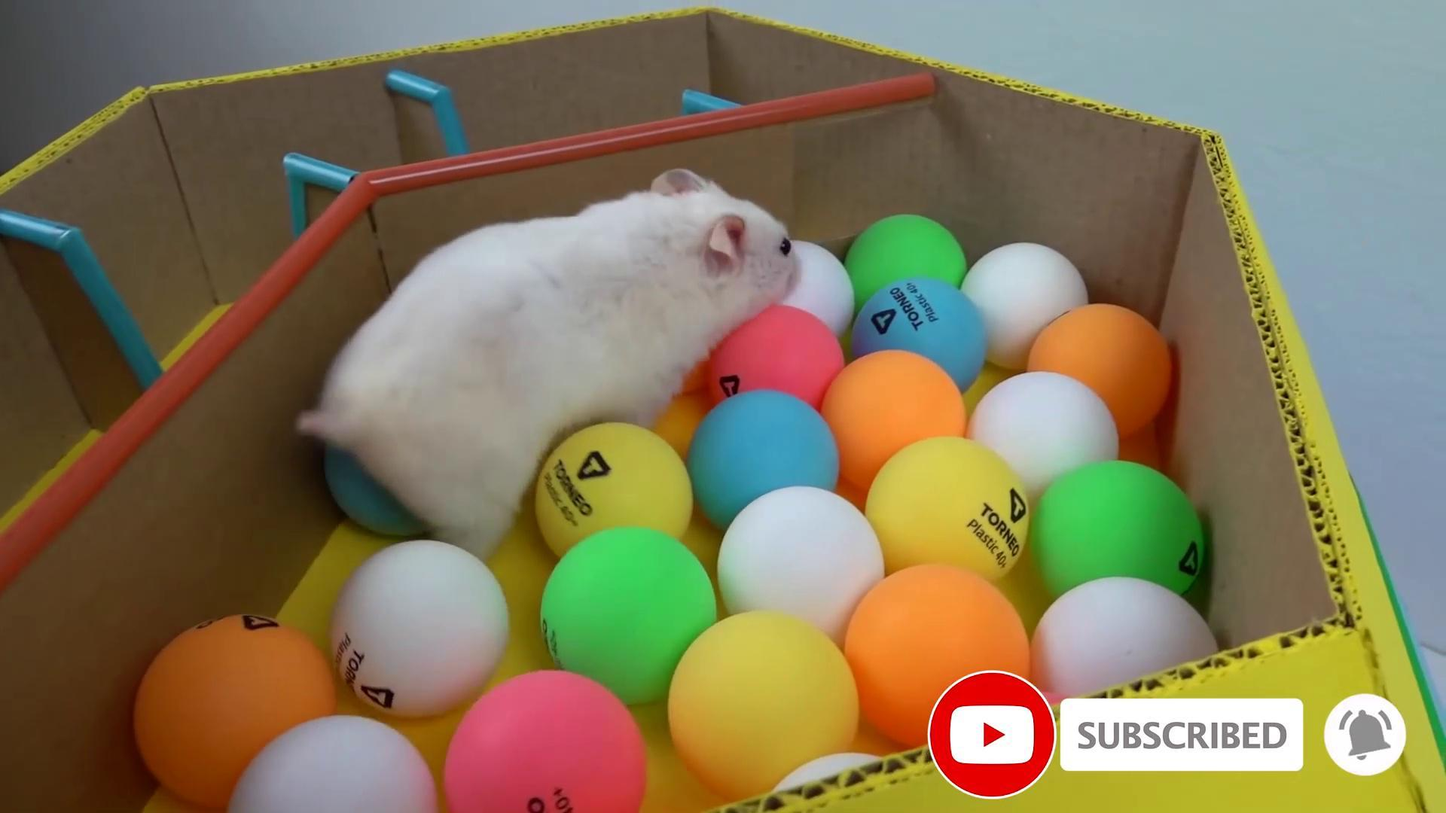rat: (296, 171, 804, 554)
